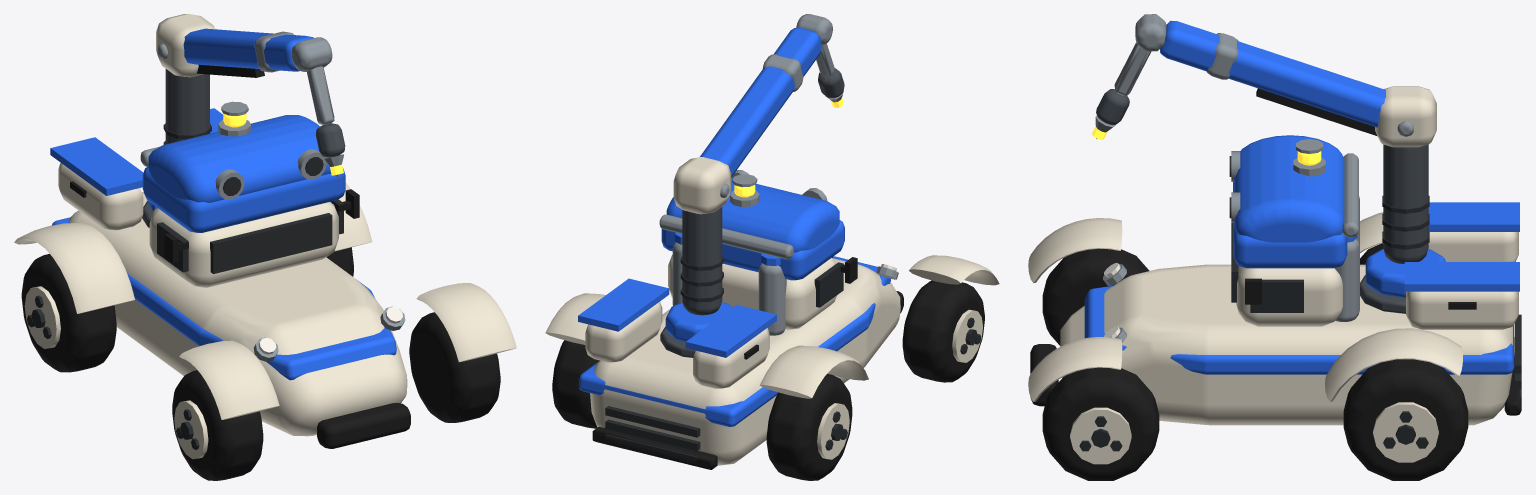
The model's file is repair_truck.glb.
3 renders of one model, left to right at view 1: azimuth 30°, elevation 25°; view 2: azimuth 150°, elevation 25°; view 3: azimuth 270°, elevation 25°, orthographic. The views are drawn at different scales.
Parts seen in each view (by area): view 1: hull__M_CreamPlastic, cab_head__M_Team, hull__M_Team, wheel_l0__M_Licorice, wing_r1__M_CreamPlastic, wheel_r1__M_Licorice, hull__M_Dark, wheel_r0__M_Licorice, steer_r0__M_CreamPlastic, steer_l0__M_CreamPlastic, hull__M_Licorice, rt_boom__M_Team (+13 smaller); view 2: hull__M_CreamPlastic, hull__M_Team, cab_head__M_Team, wheel_r0__M_Licorice, rt_boom__M_Team, wheel_r1__M_Licorice, turret__M_SmokePlastic, hull__M_Dark, wing_r1__M_CreamPlastic, wheel_l1__M_Licorice, turret__M_CreamPlastic, hull__M_SpringSteel (+12 smaller); view 3: hull__M_CreamPlastic, cab_head__M_Team, hull__M_Team, wheel_l1__M_Licorice, rt_boom__M_Team, wheel_l0__M_Licorice, turret__M_SmokePlastic, wing_l1__M_CreamPlastic, wheel_r0__M_Licorice, turret__M_CreamPlastic, steer_r0__M_CreamPlastic, steer_l0__M_CreamPlastic (+17 smaller).
Part boxes in pixels (box(x1,y1,x2,y2)): hull__M_CreamPlastic: box(58, 163, 407, 436); cab_head__M_Team: box(142, 115, 345, 232); hull__M_Team: box(50, 108, 396, 380); wheel_l0__M_Licorice: box(409, 312, 500, 422); wing_r1__M_CreamPlastic: box(14, 223, 134, 313); wheel_r1__M_Licorice: box(21, 254, 116, 372); hull__M_Dark: box(157, 199, 343, 273); wheel_r0__M_Licorice: box(172, 370, 263, 480); steer_r0__M_CreamPlastic: box(179, 340, 279, 419); steer_l0__M_CreamPlastic: box(416, 283, 516, 362); hull__M_Licorice: box(70, 181, 410, 448); rt_boom__M_Team: box(183, 28, 313, 71); hull__M_CreamPlastic: box(585, 255, 900, 465); hull__M_Team: box(578, 232, 890, 426); cab_head__M_Team: box(661, 177, 844, 280); wheel_r0__M_Licorice: box(902, 280, 984, 382); rt_boom__M_Team: box(700, 27, 821, 176); wheel_r1__M_Licorice: box(766, 373, 852, 480); turret__M_SmokePlastic: box(682, 207, 722, 315); hull__M_Dark: box(605, 257, 843, 464); wing_r1__M_CreamPlastic: box(759, 345, 868, 398); wheel_l1__M_Licorice: box(552, 340, 599, 428); turret__M_CreamPlastic: box(673, 157, 731, 214); hull__M_SpringSteel: box(672, 242, 898, 335); hull__M_CreamPlastic: box(1060, 232, 1518, 425); cab_head__M_Team: box(1233, 135, 1347, 268); hull__M_Team: box(1084, 202, 1519, 374); wheel_l1__M_Licorice: box(1343, 359, 1468, 480); rt_boom__M_Team: box(1160, 20, 1385, 127); wheel_l0__M_Licorice: box(1042, 367, 1159, 480); turret__M_SmokePlastic: box(1383, 144, 1428, 263); wing_l1__M_CreamPlastic: box(1325, 328, 1462, 401); wheel_r0__M_Licorice: box(1042, 248, 1149, 345); turret__M_CreamPlastic: box(1375, 86, 1436, 147); steer_r0__M_CreamPlastic: box(1028, 218, 1122, 282); steer_l0__M_CreamPlastic: box(1028, 337, 1122, 401).
Size of the model in its own units: 0.636 by 0.776 by 0.8736.
